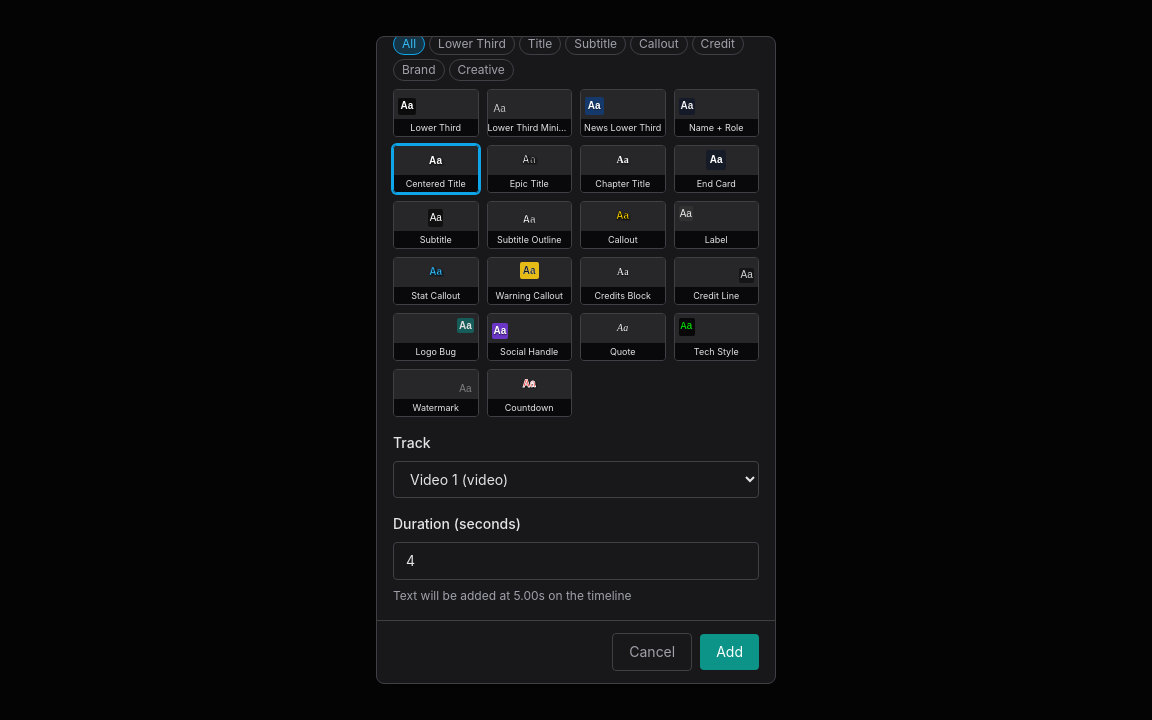
AddTextDialog › interactions › should show error and keep dialog open when add fails
This screenshot has width=1152, height=720.
(page scrolled)
Click the button "Add" at (730, 652), box [700,634,759,670]
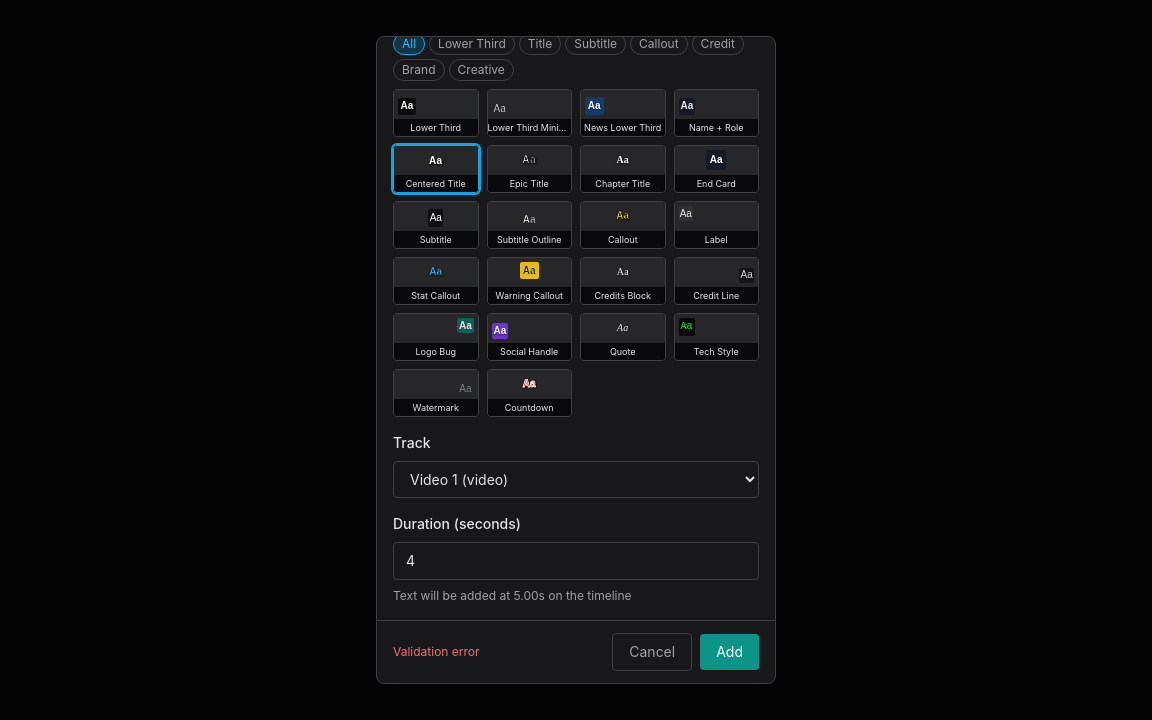
expect the text "Validation error" is shown: met, box [393,644,480,660]
